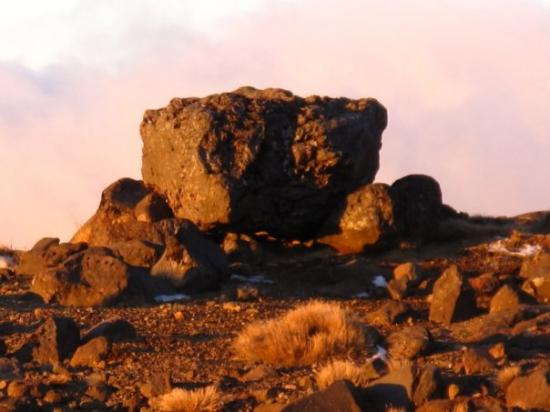volcanic_rock: (140, 101, 372, 230), (415, 267, 535, 352), (24, 241, 128, 309)
